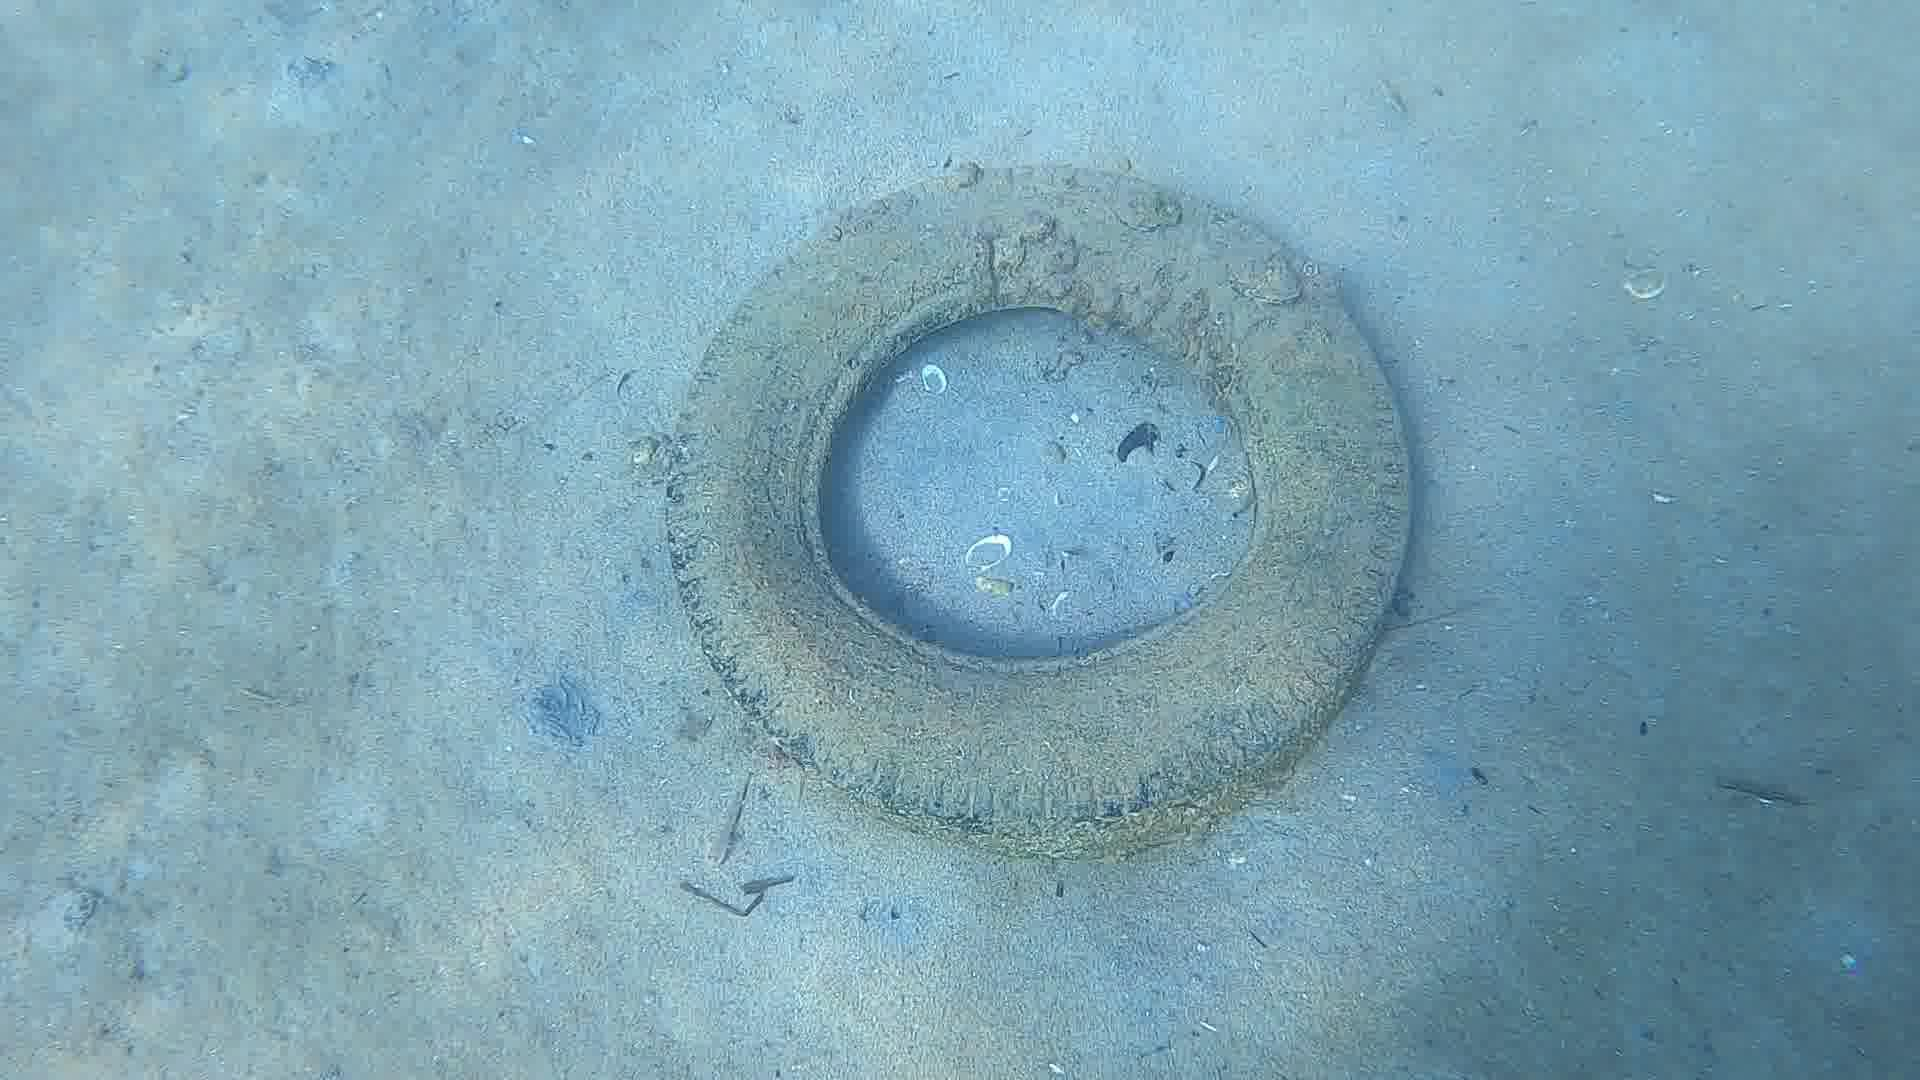tire: (651, 162, 1416, 858)
